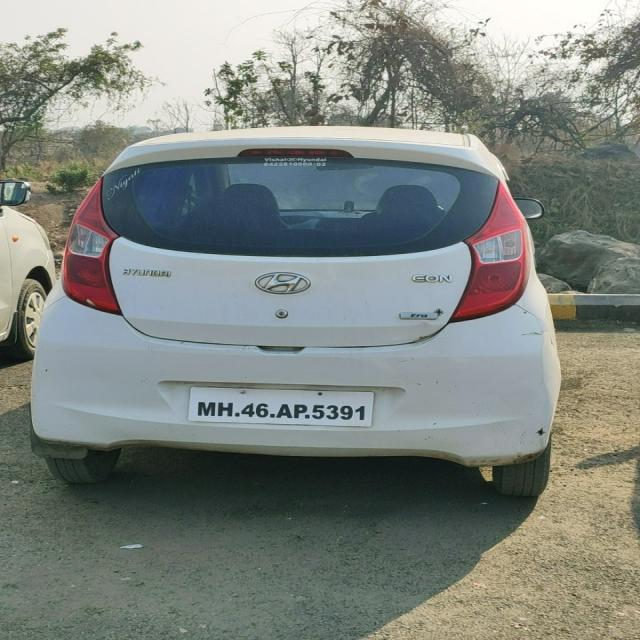Number-Plate: (192, 386, 373, 424)
